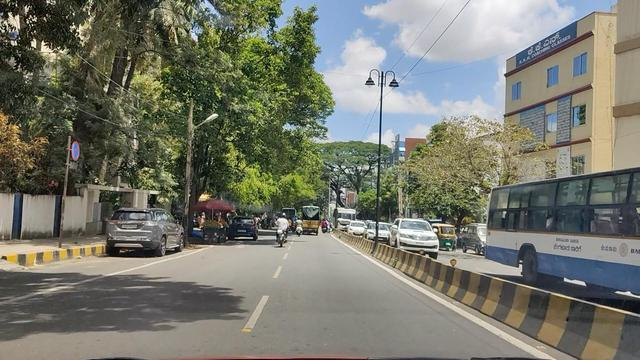LMV: (104, 207, 159, 258), (273, 212, 290, 253)
